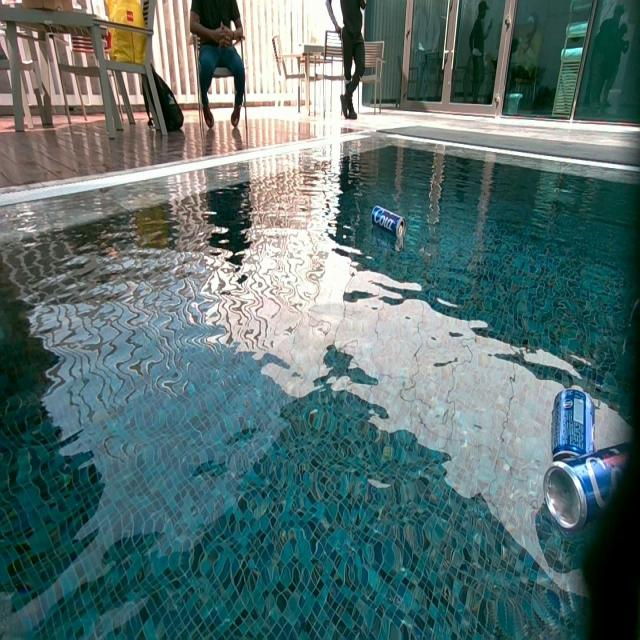Cans: (543, 442, 633, 538), (551, 390, 596, 456), (372, 207, 408, 254)
